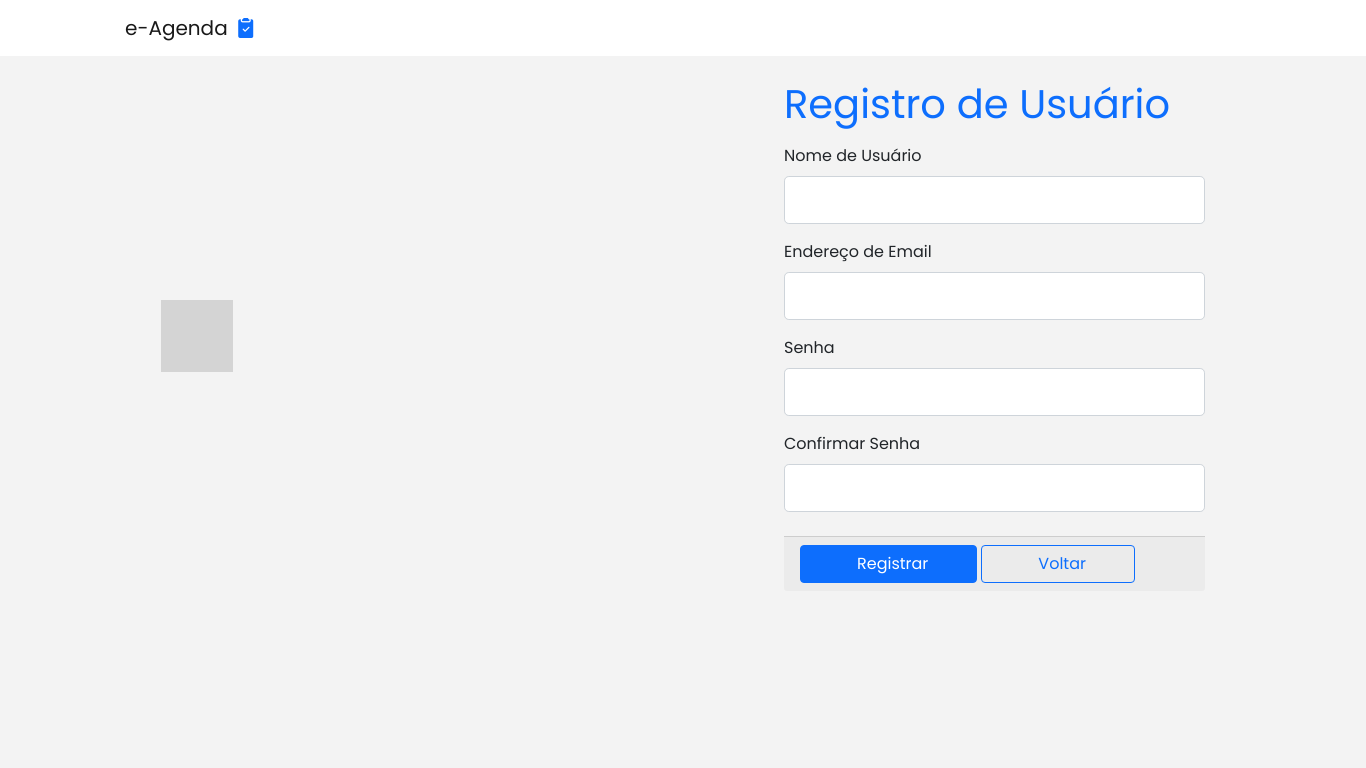
Test case: Processo de Registro do Usuário › Deve notificar sobre formulário inválido
The width and height of the screenshot is (1366, 768).
Step 1. Type "Testes Cypress" into the field with test id "nome" → (995, 200), box [784,176,1205,224]
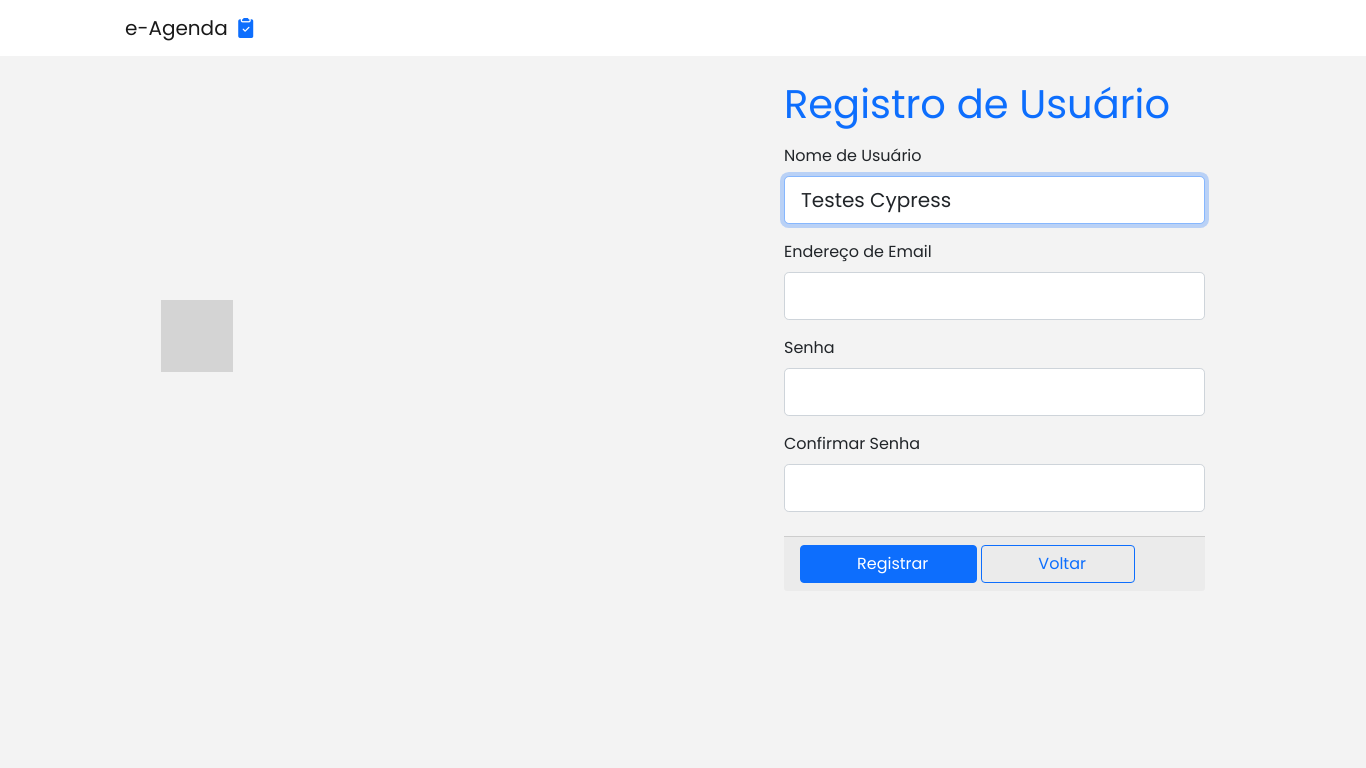
Step 2. Type "testador@cypress.com" into the field with test id "email" → (995, 296), box [784,272,1205,320]
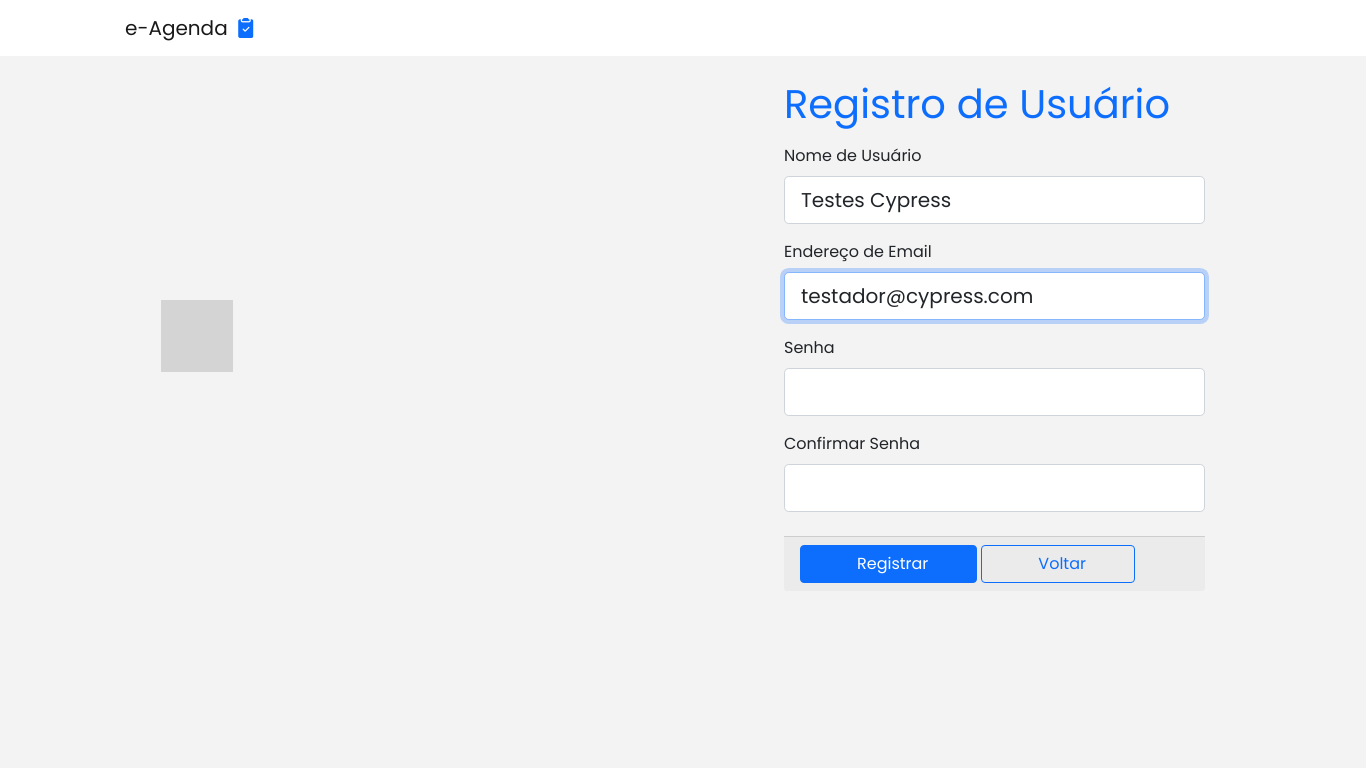
Step 3. Type "Teste" into the password field with test id "senha" → (995, 392), box [784,368,1205,416]
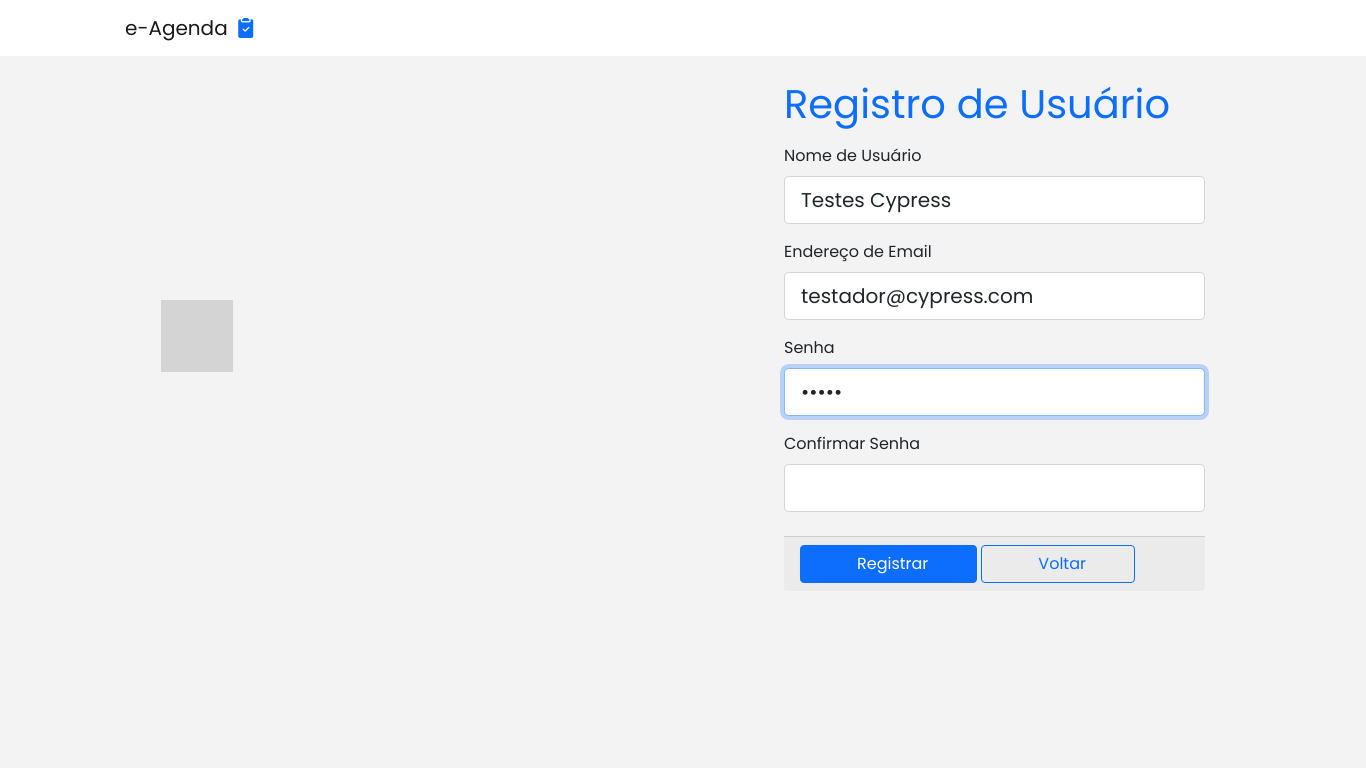
Step 4. Type "Teste" into the password field with test id "confirmarSenha" → (995, 488), box [784,464,1205,512]
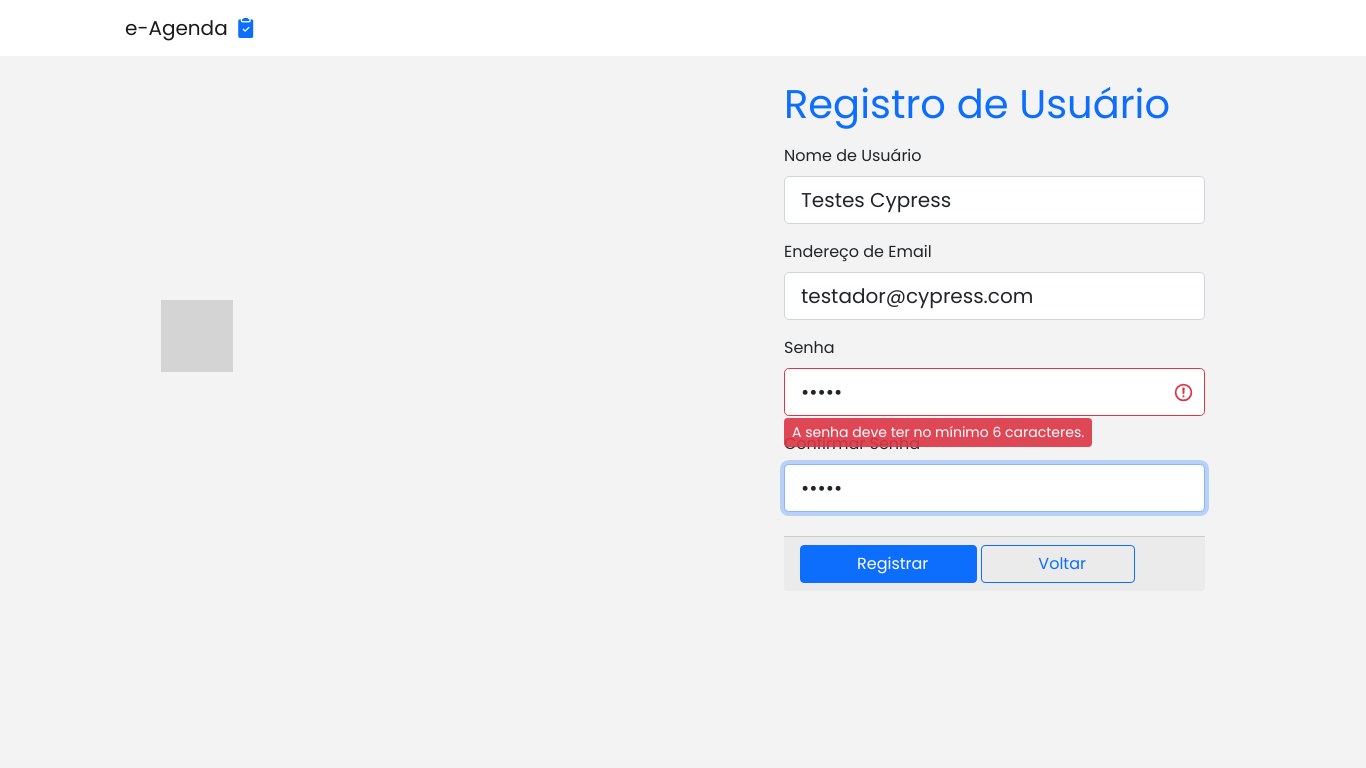
Step 5. Click the button with test id "btnRegistrar" → (889, 564), box [800,545,977,583]
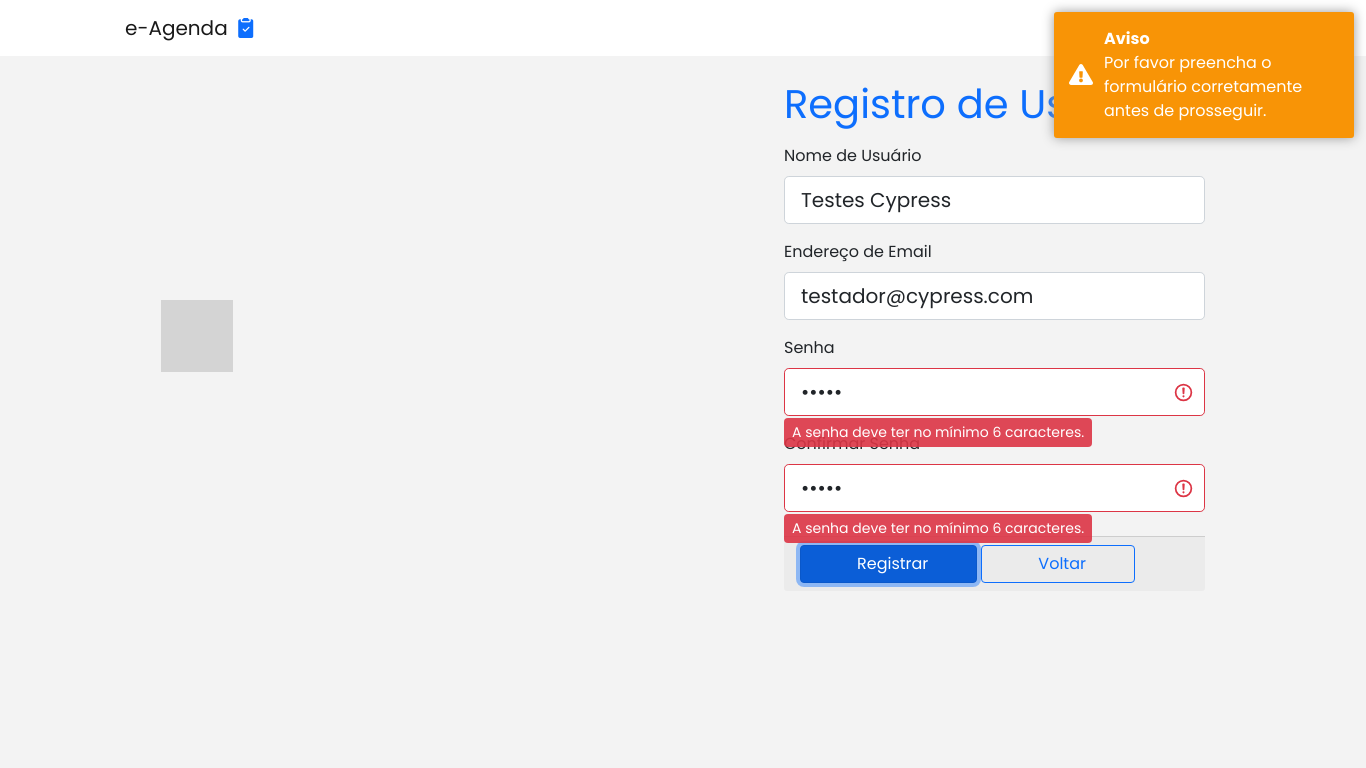
Check: the text "Por favor preencha o formulário corretamente antes de prosseguir." is shown, box [1104,51,1302,122]
